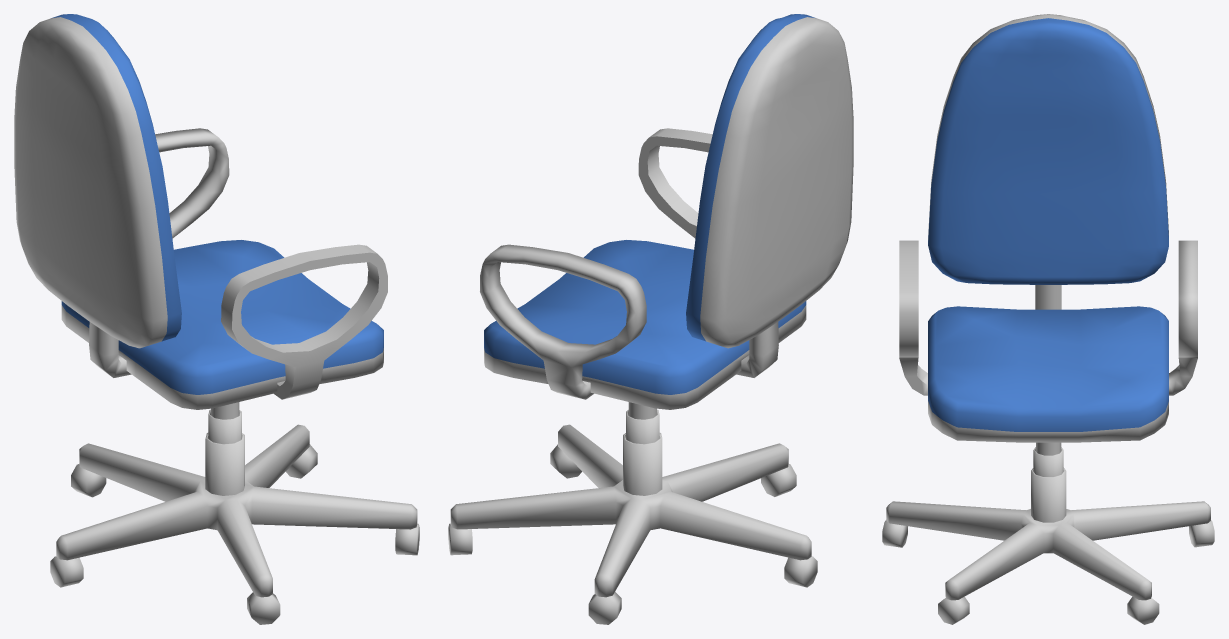
The model's file is Chair.fbx.
3 views of the same model, side by side, from view 1: azimuth 30°, elevation 25°; view 2: azimuth 150°, elevation 25°; view 3: azimuth 270°, elevation 25° (orthographic). The views are drawn at different scales.
Parts seen in each view (by area): view 1: OfficeChair; view 2: OfficeChair; view 3: OfficeChair.
Part boxes in pixels (x1,y1,x2,y2): OfficeChair: (14, 14, 419, 624); OfficeChair: (448, 14, 853, 624); OfficeChair: (882, 14, 1214, 624).
Bounding box in the file's own units: 0.6553 × 1.12 × 0.6901.
